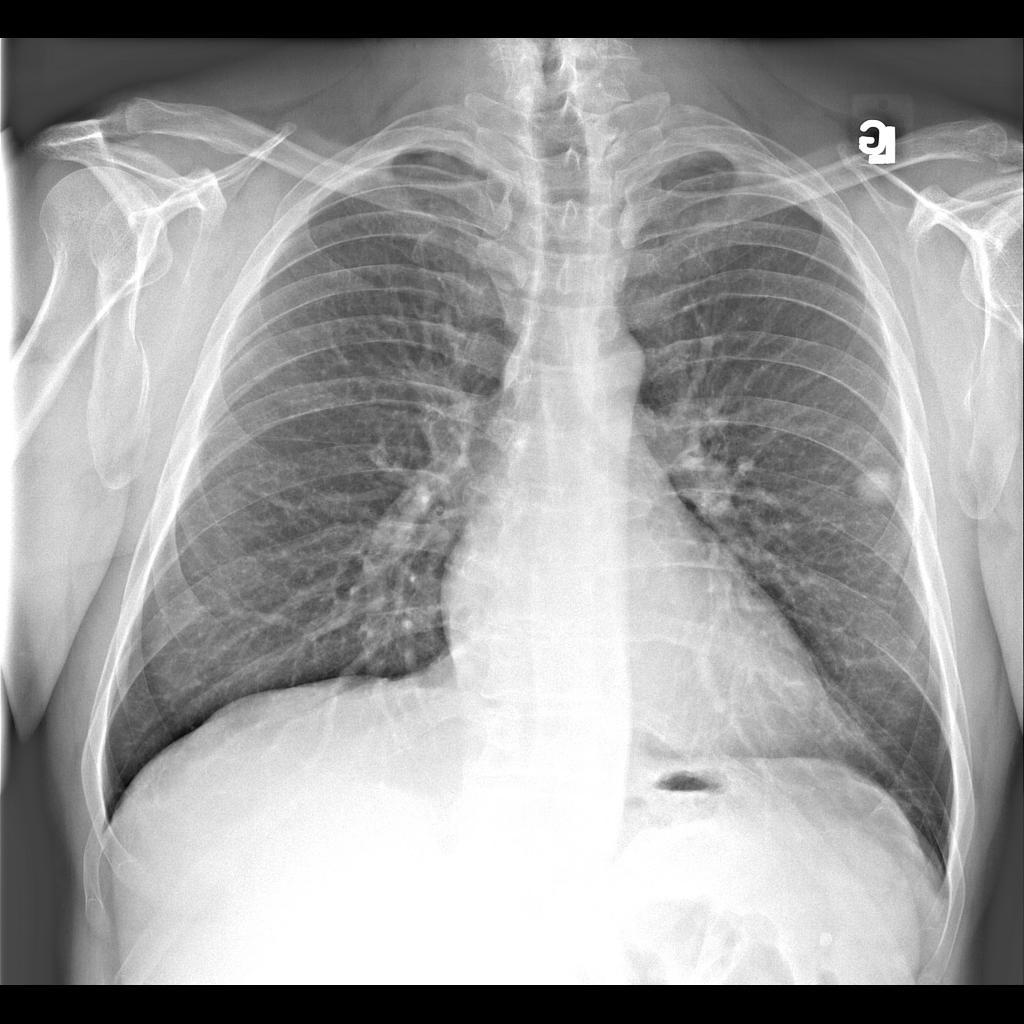Nodule: (848, 461, 904, 512)
